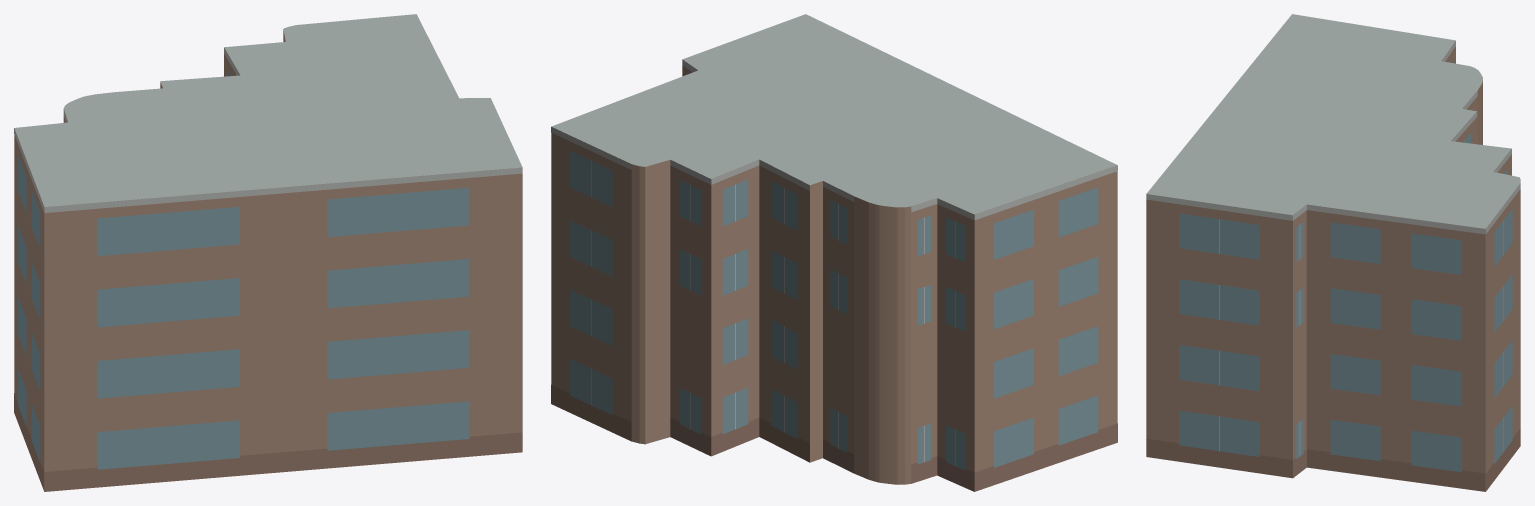
Rendered from survey-upis-32993196.glb.
The picture shows the model from 3 angles, left to right: view 1: azimuth 30°, elevation 25°; view 2: azimuth 150°, elevation 25°; view 3: azimuth 270°, elevation 25°; orthographic projection. The views are drawn at different scales.
Parts seen in each view (by area): view 1: survey-upis-32993196.tmp; view 2: survey-upis-32993196.tmp; view 3: survey-upis-32993196.tmp.
Boxes of the visible parts, left/top/right/bottom form: survey-upis-32993196.tmp: left=14, top=14, right=522, bottom=491; survey-upis-32993196.tmp: left=551, top=14, right=1117, bottom=491; survey-upis-32993196.tmp: left=1146, top=14, right=1520, bottom=491.
Bounding box in the file's own units: 20.17 × 11.5 × 14.85.
